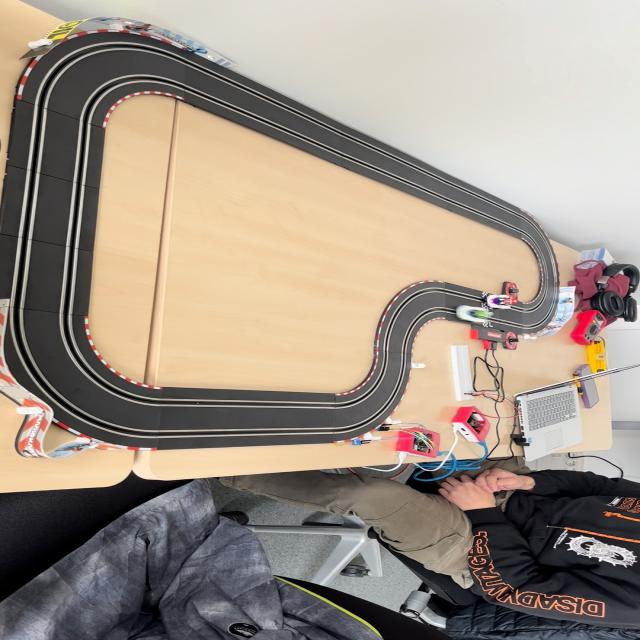mario: (486, 294, 518, 310)
yoshi: (454, 304, 495, 325)
